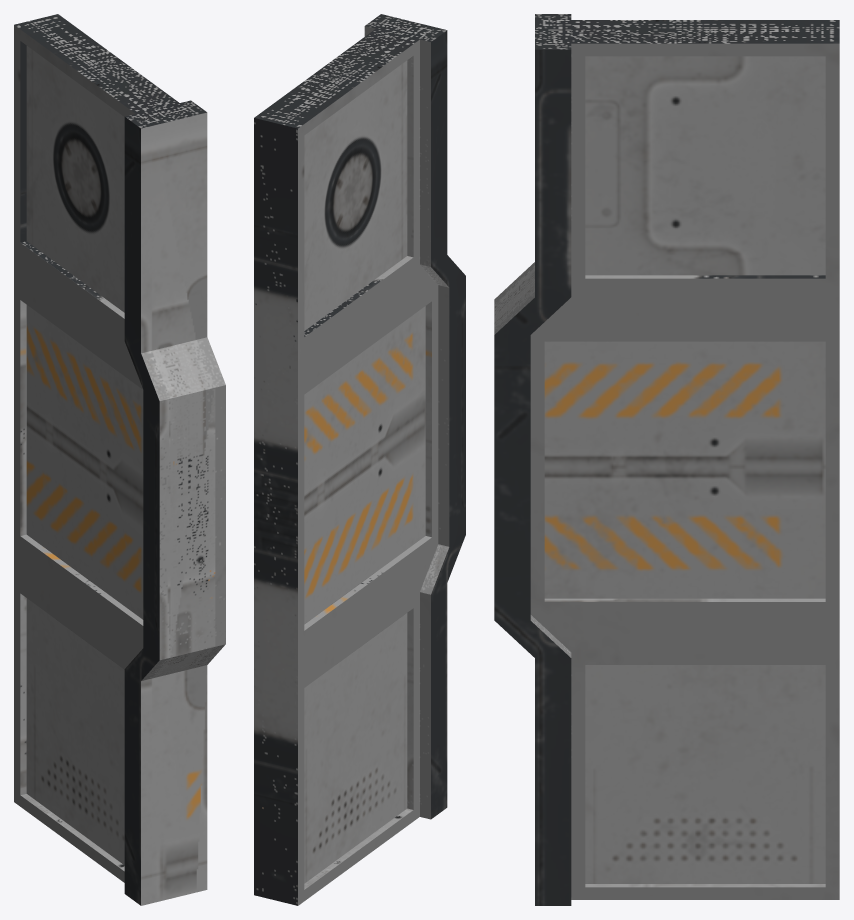
The model's file is Blast_door_right.glb.
3 renders of one model, left to right at view 1: azimuth 30°, elevation 25°; view 2: azimuth 150°, elevation 25°; view 3: azimuth 270°, elevation 25°, orthographic. The views are drawn at different scales.
Parts seen in each view (by area): view 1: Blast_door_right_export; view 2: Blast_door_right_export; view 3: Blast_door_right_export.
Part boxes in pixels (bbox=[...]): Blast_door_right_export: bbox=[14, 14, 225, 905]; Blast_door_right_export: bbox=[254, 14, 465, 905]; Blast_door_right_export: bbox=[494, 14, 839, 905].
Size of the model in its own units: 0.2984 by 3.34 by 1.22.
1 material, 1 textured.
